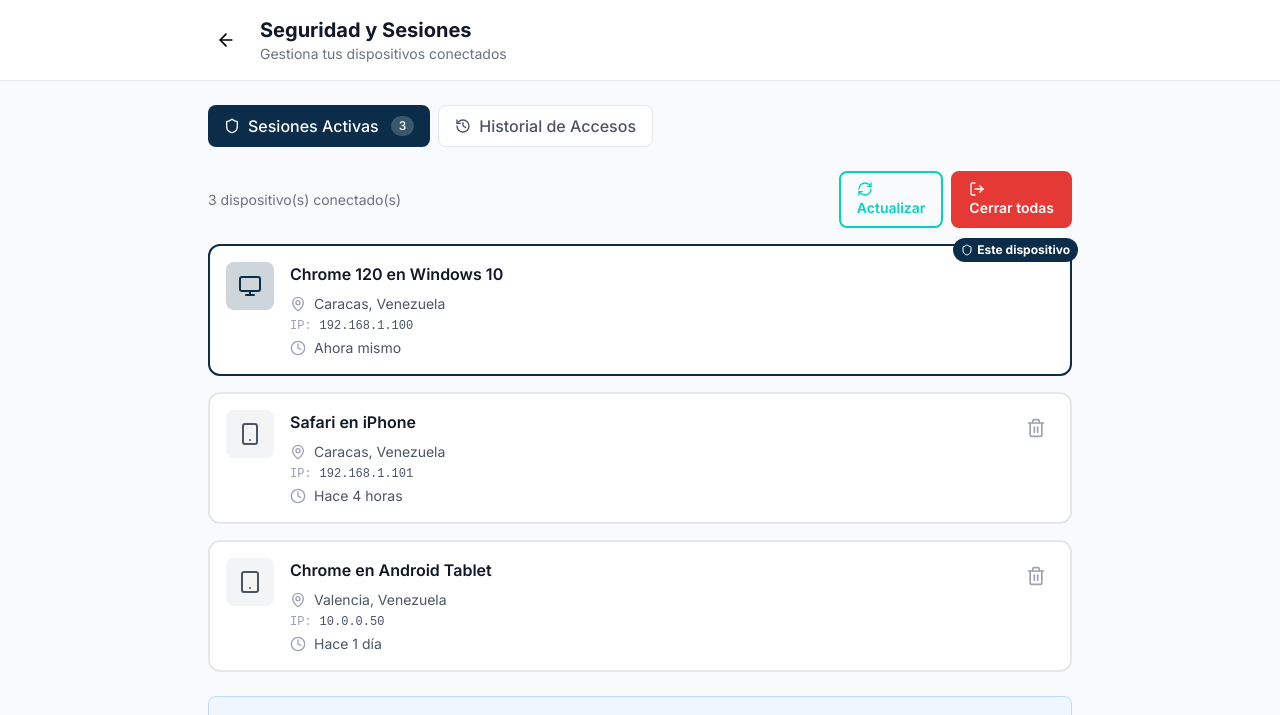
Gestión de Sesiones - E2E › Cerrar todas las sesiones (mocked) › debe poder cancelar desde el modal
The width and height of the screenshot is (1280, 715).
Click the button "Cerrar todas": (1012, 200) [951, 171, 1072, 228]
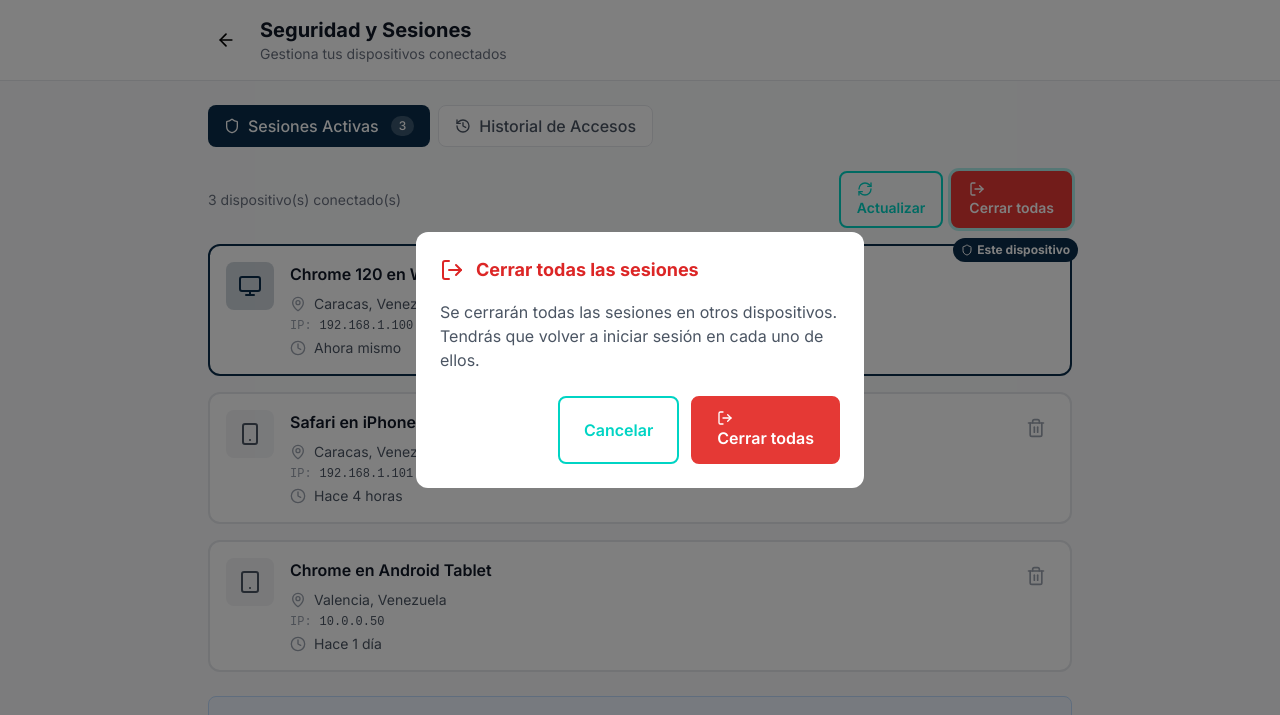
Click the button "Cancelar": (619, 430) [558, 396, 679, 464]
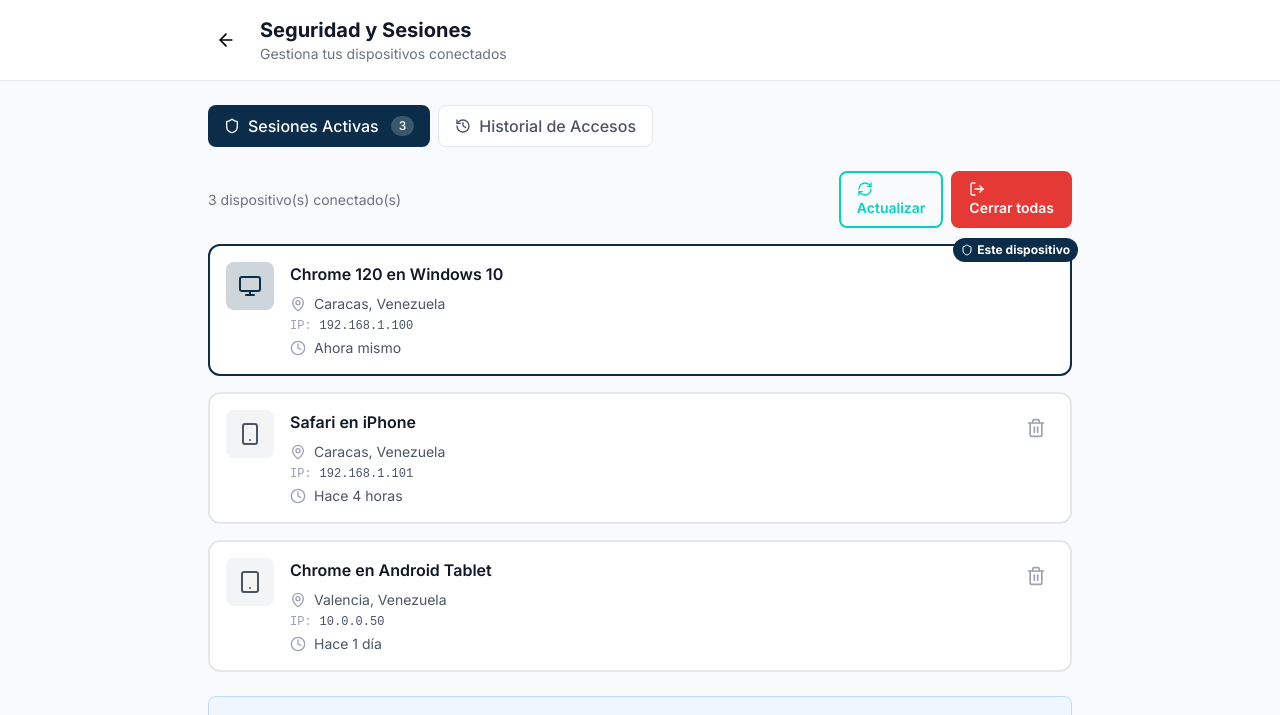
Result: the text "Se cerrarán todas las sesiones" is gone
